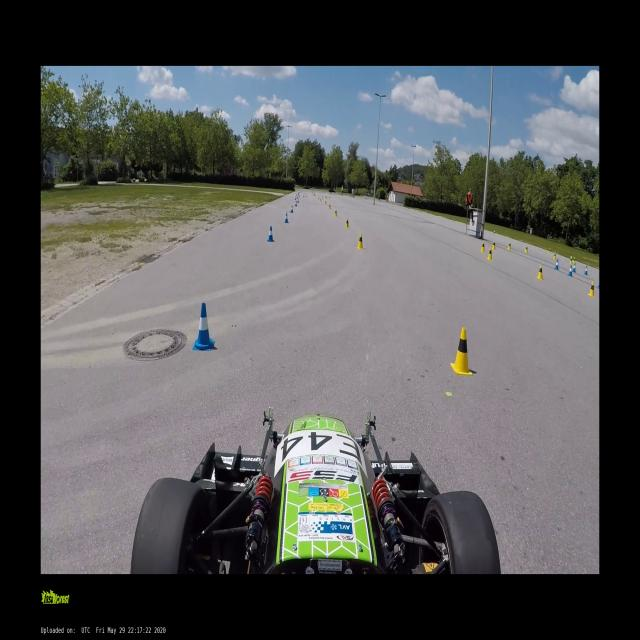blue_cone: (193, 304, 213, 349), (267, 226, 274, 242), (284, 212, 289, 224), (571, 262, 576, 274), (568, 264, 572, 278), (584, 265, 588, 276), (555, 259, 559, 270), (290, 205, 293, 213), (296, 198, 299, 203), (294, 196, 297, 200), (298, 194, 300, 198), (303, 194, 304, 198)
yellow_cone: (450, 328, 473, 378), (356, 233, 364, 250), (587, 282, 595, 298), (536, 265, 544, 280), (487, 248, 493, 261), (344, 219, 350, 229), (481, 242, 485, 252), (492, 240, 496, 250), (552, 251, 556, 260), (569, 256, 573, 264), (524, 246, 528, 254), (333, 209, 337, 216), (547, 248, 551, 254), (328, 203, 331, 209), (508, 242, 510, 250), (324, 200, 327, 205), (572, 257, 574, 264), (320, 198, 321, 202)
